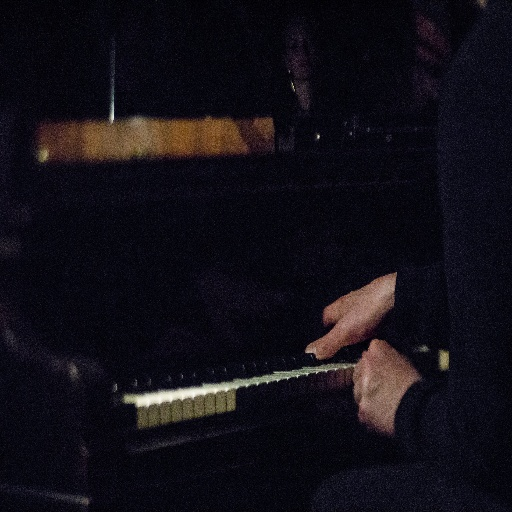hand: (300, 283, 396, 375), (350, 336, 424, 436)
